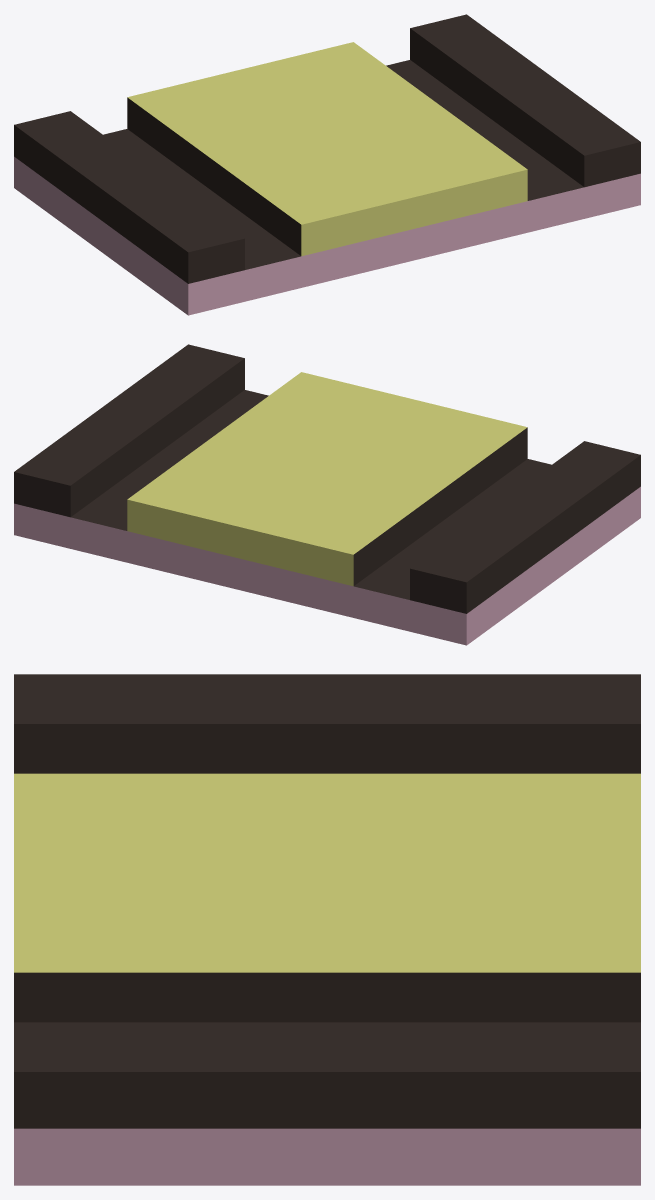
Rendered from Alley Straight Section.fbx.
3 renders of one model, top to bottom at view 1: azimuth 30°, elevation 25°; view 2: azimuth 150°, elevation 25°; view 3: azimuth 270°, elevation 25°, orthographic. The views are drawn at different scales.
Visible parts, largest first — view 1: Alley Straight Section; view 2: Alley Straight Section; view 3: Alley Straight Section.
Part boxes in pixels (<box>): Alley Straight Section: <box>14,14,640,315</box>; Alley Straight Section: <box>14,344,640,645</box>; Alley Straight Section: <box>14,674,640,1185</box>.
Size of the model in its own units: 3000 by 400 by 2000.
